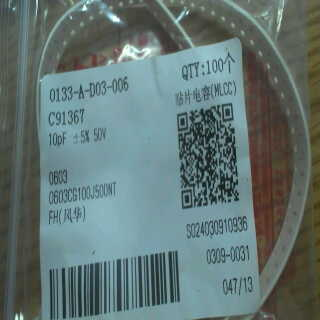10pF: (46, 124, 69, 152)
